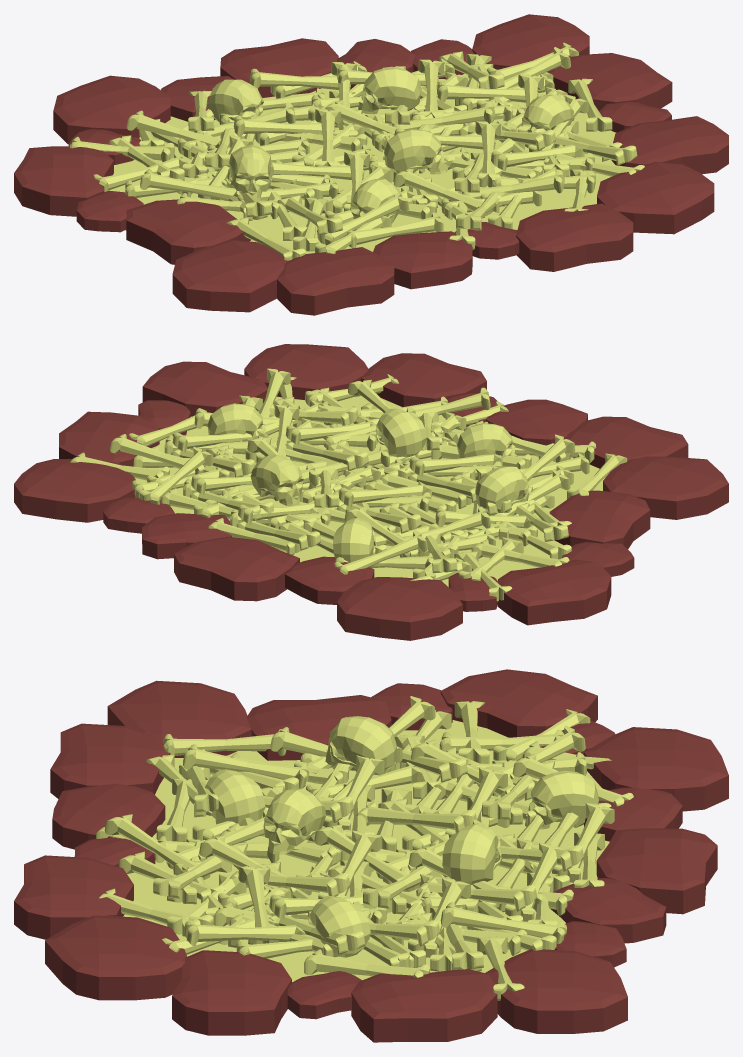
The model's file is BonePit2.fbx.
The picture shows the model from 3 angles, top to bottom: view 1: azimuth 30°, elevation 25°; view 2: azimuth 150°, elevation 25°; view 3: azimuth 270°, elevation 25°; orthographic projection. The views are drawn at different scales.
Parts seen in each view (by area): view 1: Cube.101; view 2: Cube.101; view 3: Cube.101.
Boxes of the visible parts, x1,y1,x2,y2 form: Cube.101: (14, 14, 728, 315); Cube.101: (14, 344, 728, 640); Cube.101: (14, 669, 728, 1042).
Bounding box in the file's own units: 1442 × 154 × 1246.
